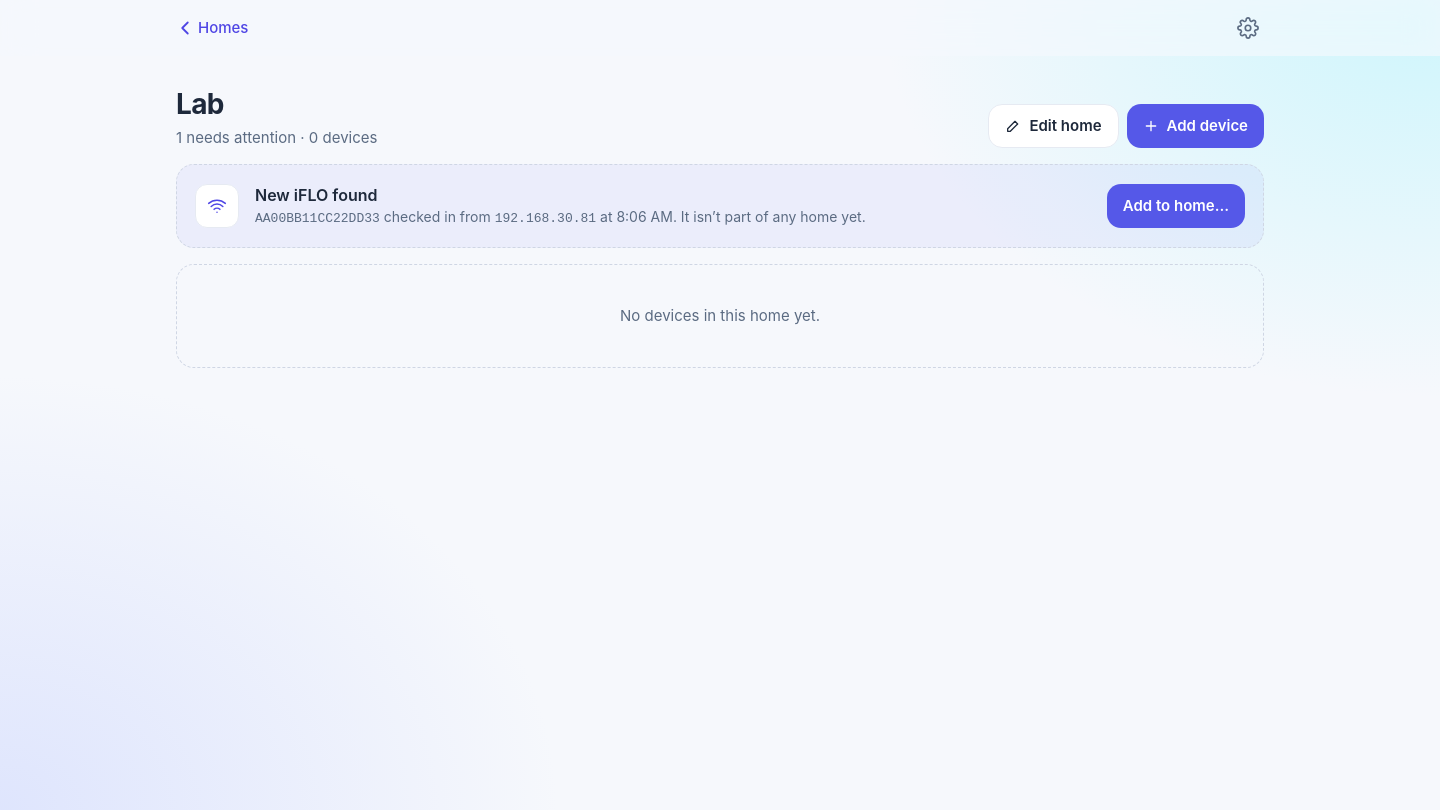
Test: HomePage › shows why a claim failed
Click the button "Add to home…".
click(1176, 206)  # box [1107,184,1245,228]
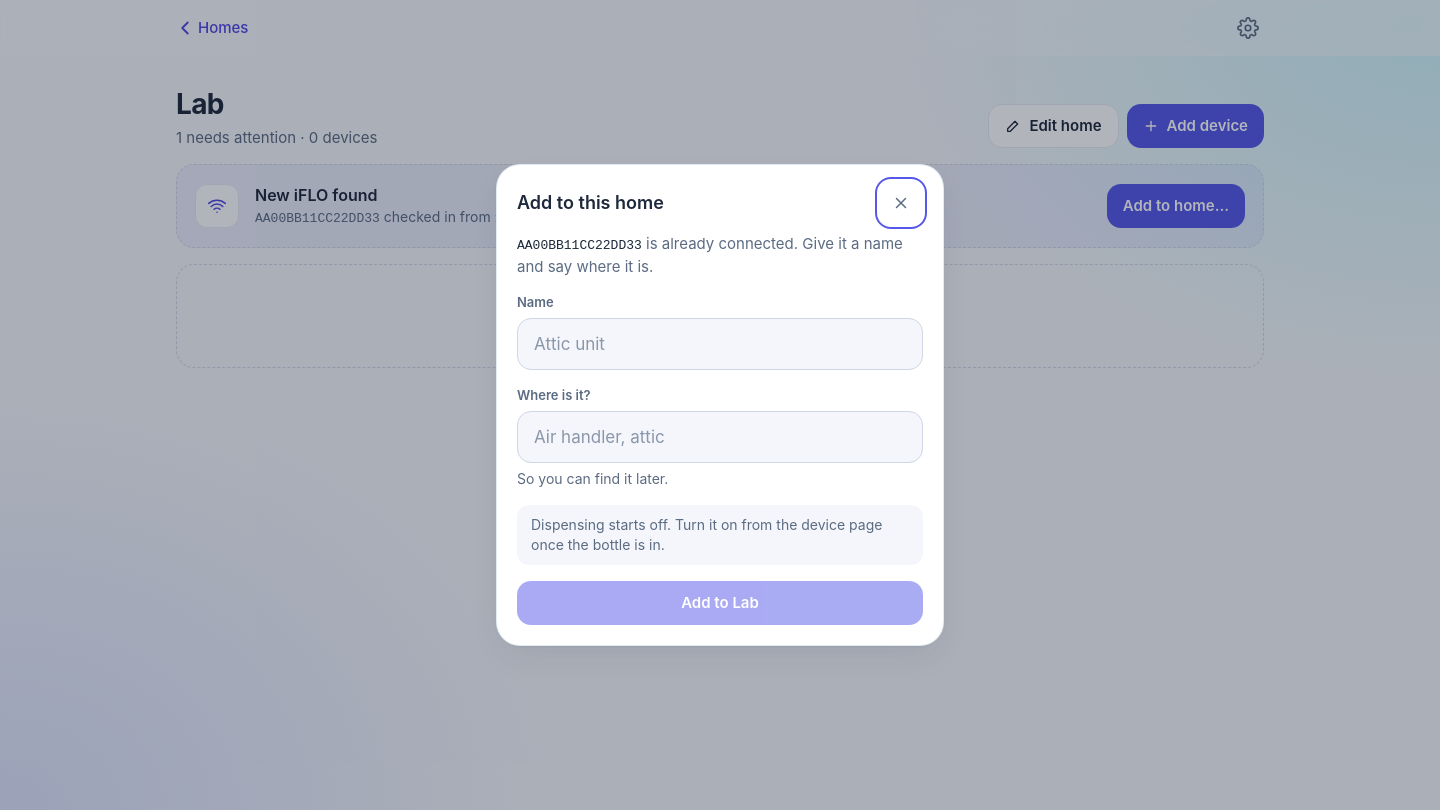
Type "Garage unit" into the field labelled "Name".
click(720, 344); type("Garage unit")  # box [517,318,923,370]
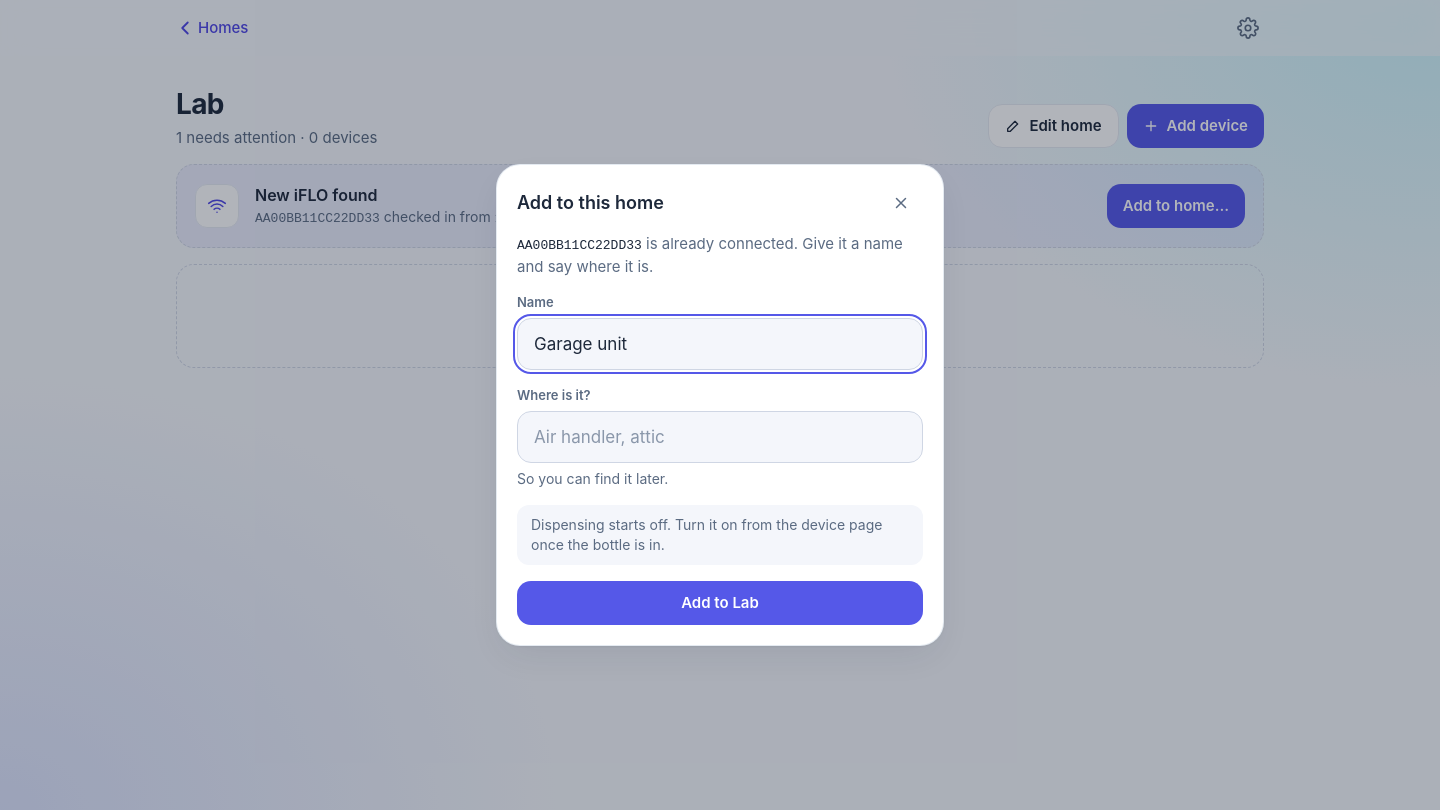
Click the button "Add to Lab".
click(720, 603)  # box [517,581,923,625]
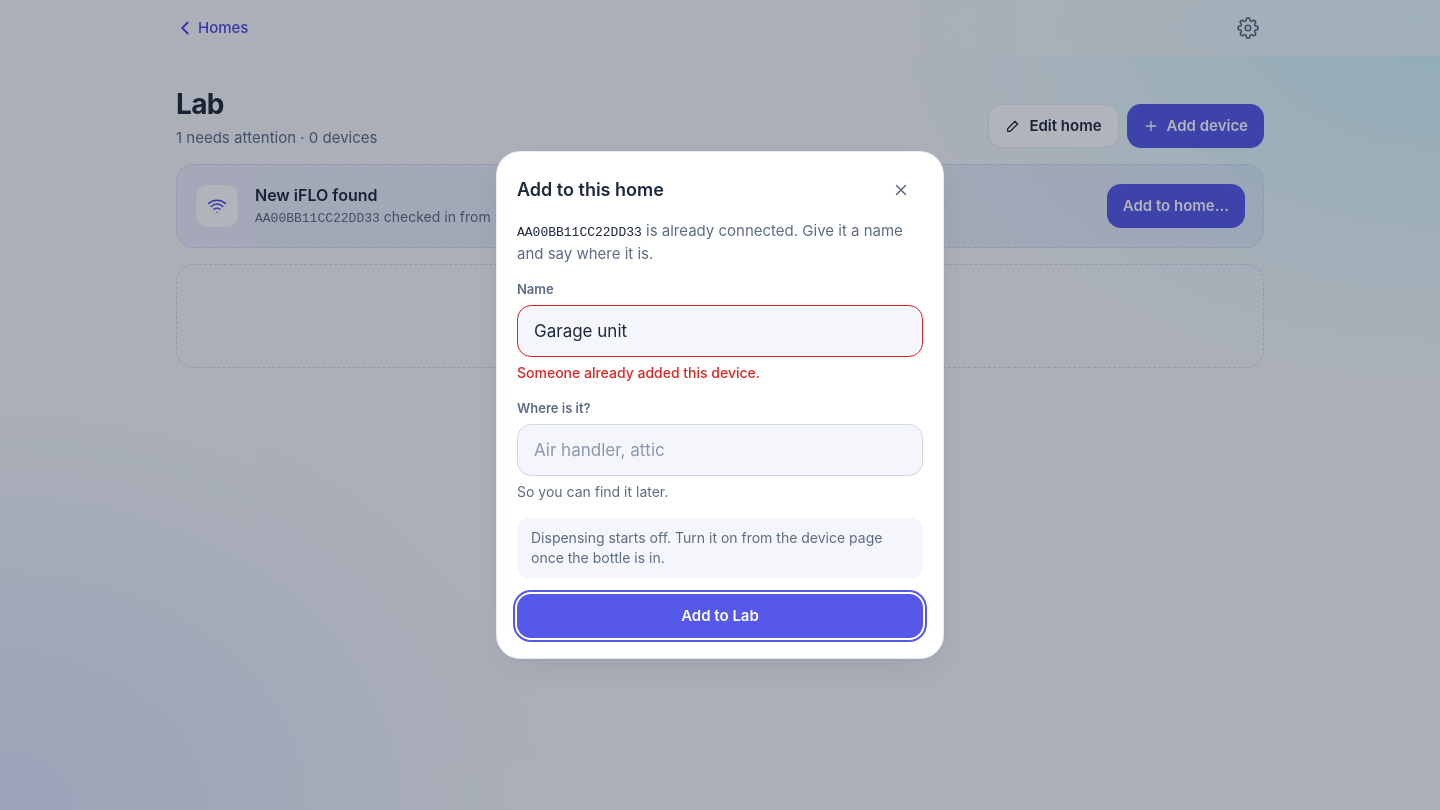
Expected: the message reads "Someone already added this device.", [517,364,760,381]
